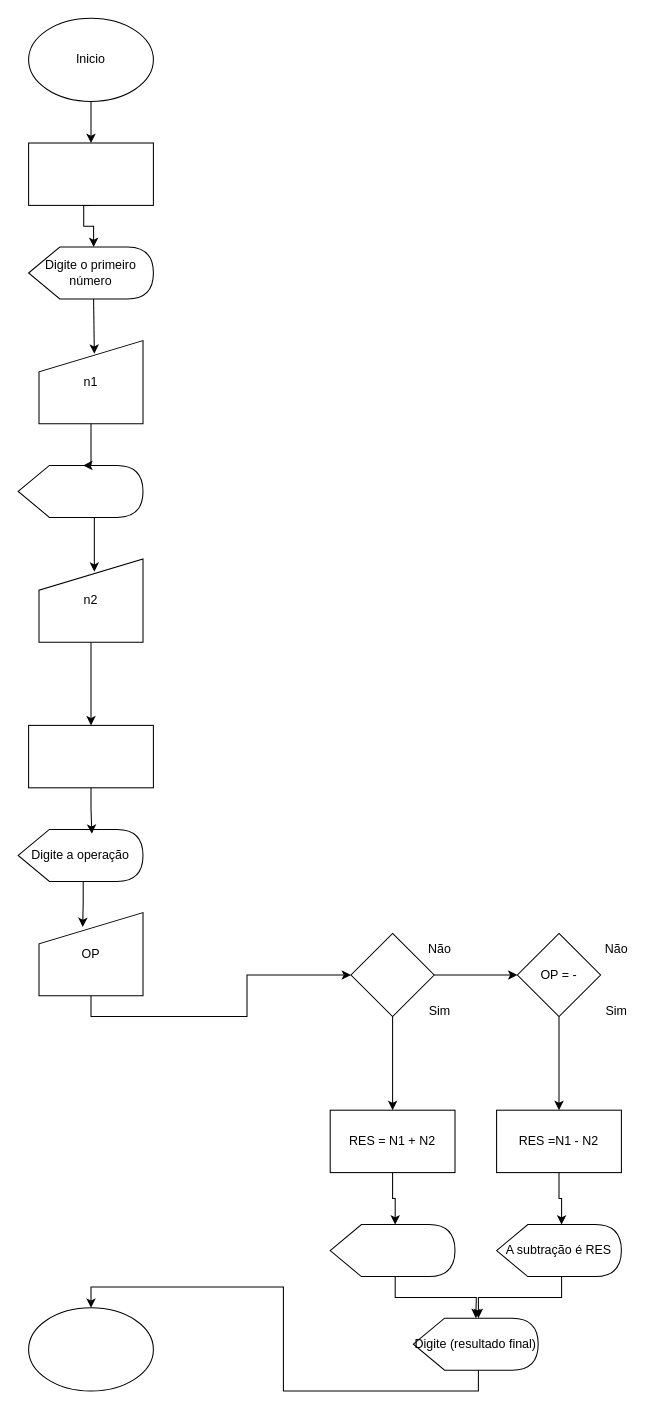
Image size: 660x1418. Some labels were removed from this diagram. The centre of each missing label's shape, as x and y in pixels:
A soma é : RES: (392,1250)
Digite o segundo número: (80,490)
Fim: (90,1349)
número 1 : número 2 : resultado dos números :: (90,173)
OP = +: (392,974)
Resultado = Número 1 + Número 2: (90,756)
